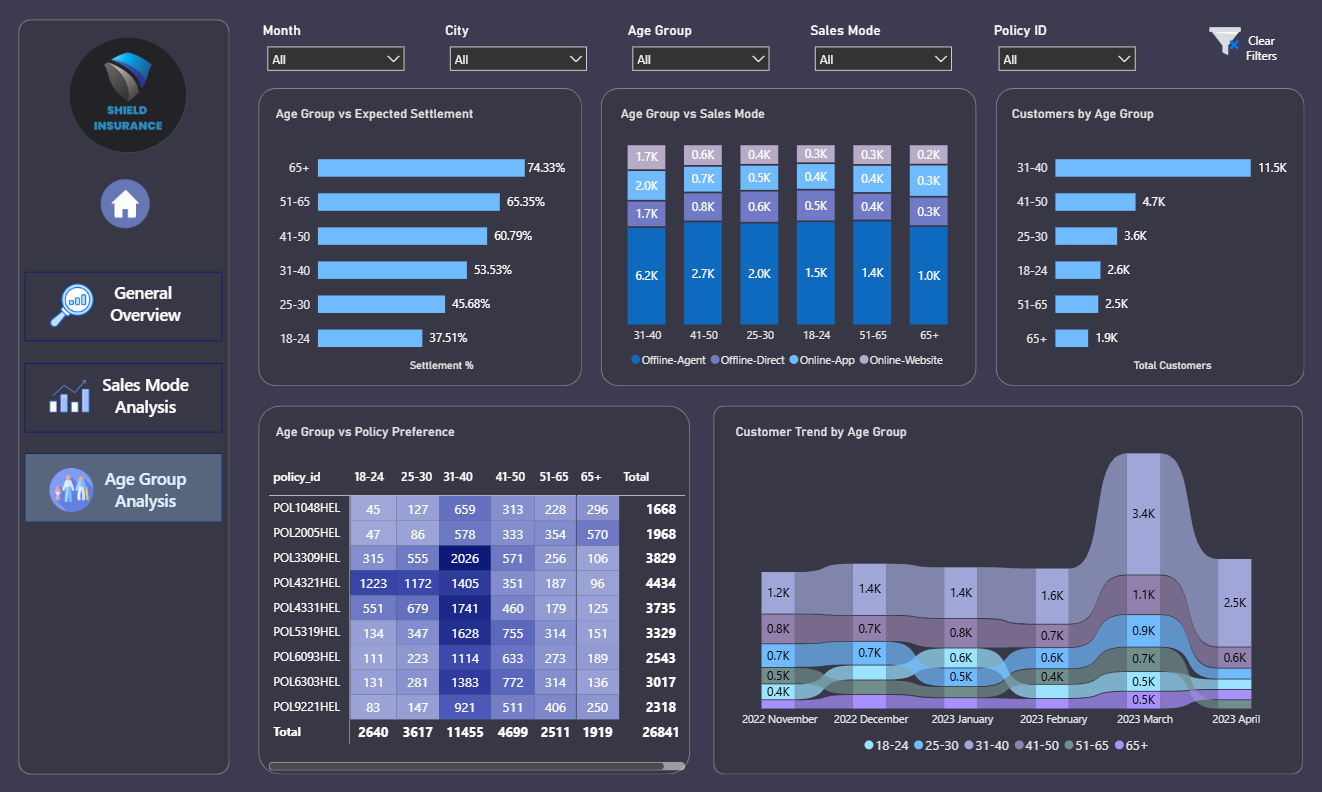

The page's visual inventory and layout, read from the dashboard file:
{"tool":"powerbi","page":{"name":"Age Group Analysis","canvas":[1500,900],"ordinal":3},"visuals":[{"type":"shape","box":[24.1,24.1,238.3,852],"z":0},{"type":"shape","box":[294.1,101,364.9,336.3],"z":0,"group":"g1"},{"type":"shape","box":[808.3,460,665.1,416.2],"z":0,"group":"g6"},{"type":"image","box":[60,34.1,174.4,149.9],"z":1000},{"type":"shape","box":[294.1,460,487.1,416.2],"z":1000,"group":"g4"},{"type":"slicer","title":"Month","fields":{"Values":["dim_date.mmm_yy"]},"box":[294.3,27,175,60],"z":2000},{"type":"shape","box":[1126.6,101.1,348.4,336.3],"z":2000,"group":"g2"},{"type":"ribbonChart","fields":{"Y":["Key Measures.Total Customers"],"Series":["dim_customer.Age Group"],"Category":["dim_date.date.Variation.Date Hierarchy.Year","dim_date.date.Variation.Date Hierarchy.Month"]},"box":[816.9,462.3,648.5,399.9],"z":2000,"group":"g6"},{"type":"slicer","title":"Policy ID","fields":{"Values":["fact_premiums.policy_id"]},"box":[1118.7,27.3,174.4,60],"z":3000},{"type":"shape","box":[680.6,101,423.8,336.3],"z":3000,"group":"g3"},{"type":"slicer","title":"City","fields":{"Values":["dim_customer.city"]},"box":[500.4,27,175,60],"z":4000},{"type":"slicer","title":"Age Group","fields":{"Values":["dim_customer.Age Group"]},"box":[706.5,27,175,60],"z":5000},{"type":"slicer","title":"Sales Mode","fields":{"Values":["fact_premiums.sales_mode"]},"box":[912.6,27,175,60],"z":6000},{"type":"actionButton","box":[1390.8,24.6,69.2,64.6],"z":7000},{"type":"image","box":[1358.5,24.6,52.3,47.7],"z":8000},{"type":"group","id":"g1","title":"Group 1","box":[294.1,101,364.9,336.3],"z":9000},{"type":"group","id":"g2","title":"Group 2","box":[1126.6,101.1,347.3,335.9],"z":10000},{"type":"textbox","box":[314,476.1,255,38.6],"z":10000,"group":"g4"},{"type":"group","id":"g3","title":"Group 3","box":[680.6,101,423.8,336.3],"z":11000},{"type":"textbox","box":[703.2,115.3,248.8,36.7],"z":12000,"group":"g3"},{"type":"group","id":"g4","title":"Group 5","box":[294.1,460,487.1,416.2],"z":12000},{"type":"group","id":"g5","title":"Group 6","box":[808.3,460,665.1,416.2],"z":13000},{"type":"group","id":"g6","title":"Group 4","box":[808.3,460,665.1,416.2],"z":13000,"group":"g5"},{"type":"group","id":"g7","title":"Group 7","box":[58.8,314.7,188.7,279.6],"z":14000},{"type":"shape","box":[31.7,308.7,223.2,78.4],"z":15000},{"type":"textbox","box":[87.5,314.7,160,70],"z":15000,"group":"g7"},{"type":"shape","box":[31.7,411.2,223.2,78.4],"z":16000},{"type":"textbox","box":[87.5,419.5,160,70],"z":16000,"group":"g7"},{"type":"textbox","box":[833.9,476.1,247.3,36.9],"z":16000,"group":"g5"},{"type":"clusteredBarChart","fields":{"Y":["Key Measures.Total Customers"],"Category":["dim_customer.Age Group"]},"box":[1141.7,153.7,321.2,272.5],"z":17000,"group":"g2"},{"type":"shape","box":[31.7,513.8,223.2,78.4],"z":17000},{"type":"textbox","box":[87.5,524.3,160,70],"z":17000,"group":"g7"},{"type":"image","box":[117,205,55,55],"z":18000},{"type":"image","box":[58.8,322.2,50,50],"z":18000,"group":"g7"},{"type":"pivotTable","fields":{"Rows":["fact_premiums.policy_id"],"Columns":["dim_customer.Age Group"],"Values":["Key Measures.Total Customers"]},"box":[301.6,521.8,479.6,354.4],"z":18000,"group":"g4"},{"type":"clusteredBarChart","fields":{"Category":["fact_settlements.Age Group"],"Y":["Key Measures.Settlement %"]},"box":[309.4,153.6,335.8,272.5],"z":19000,"group":"g1"},{"type":"image","box":[58.8,530.4,49.8,49.8],"z":19000,"group":"g7"},{"type":"textbox","box":[1144.7,115.4,251.8,38.3],"z":20000,"group":"g2"},{"type":"image","box":[58.8,424.8,45,50],"z":20000,"group":"g7"},{"type":"textbox","box":[314,115.3,274.5,38.3],"z":21000,"group":"g1"},{"type":"hundredPercentStackedColumnChart","fields":{"Category":["dim_customer.Age Group"],"Series":["fact_premiums.sales_mode"],"Y":["Key Measures.Total Customers"]},"box":[680.6,152,423.8,274.1],"z":22000,"group":"g3"}]}

Visuals, with their boxes in screenshot pixels (x1, y1, x2, y2), scaled from the page's 1500x900 canvas onto the 1322x792 screenshot:
shape: 21,21,231,771
shape: 259,89,581,385
shape: 712,405,1299,771
image: 53,30,207,162
shape: 259,405,688,771
"Month" slicer: 259,24,414,77
shape: 993,89,1300,385
ribbonChart - Key Measures.Total Customers x dim_customer.Age Group: 720,407,1292,759
"Policy ID" slicer: 986,24,1140,77
shape: 600,89,973,385
"City" slicer: 441,24,595,77
"Age Group" slicer: 623,24,777,77
"Sales Mode" slicer: 804,24,959,77
actionButton: 1226,22,1287,78
image: 1197,22,1243,64
"Group 1" group: 259,89,581,385
"Group 2" group: 993,89,1299,385
textbox: 277,419,501,453
"Group 3" group: 600,89,973,385
textbox: 620,101,839,134
"Group 5" group: 259,405,688,771
"Group 6" group: 712,405,1299,771
"Group 4" group: 712,405,1299,771
"Group 7" group: 52,277,218,523
shape: 28,272,225,341
textbox: 77,277,218,339
shape: 28,362,225,431
textbox: 77,369,218,431
textbox: 735,419,953,451
clusteredBarChart - Key Measures.Total Customers x dim_customer.Age Group: 1006,135,1289,375
shape: 28,452,225,521
textbox: 77,461,218,523
image: 103,180,152,229
image: 52,284,96,328
pivotTable - fact_premiums.policy_id x dim_customer.Age Group: 266,459,688,771
clusteredBarChart - fact_settlements.Age Group x Key Measures.Settlement %: 273,135,569,375
image: 52,467,96,511
textbox: 1009,102,1231,135
image: 52,374,91,418
textbox: 277,101,519,135
hundredPercentStackedColumnChart - dim_customer.Age Group x fact_premiums.sales_mode: 600,134,973,375
